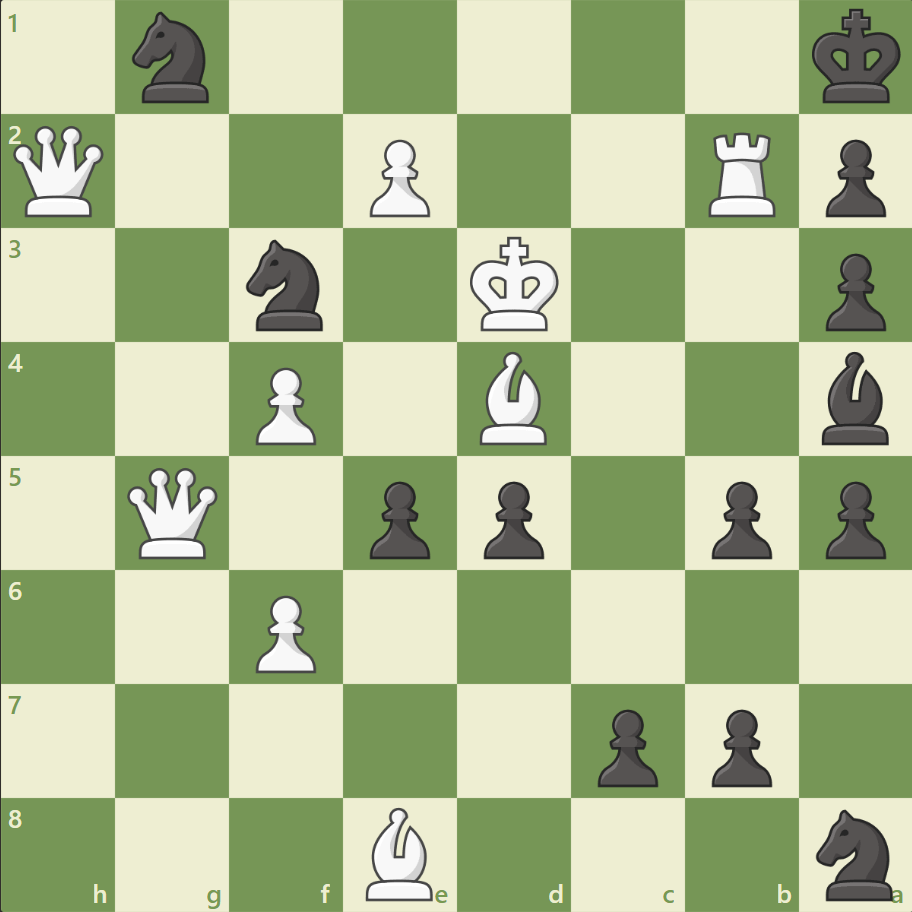B: (358, 801, 442, 904), (471, 347, 555, 449)
K: (465, 231, 565, 339)
P: (247, 586, 322, 677), (247, 359, 322, 450), (361, 132, 435, 223)
Q: (10, 122, 109, 222), (124, 463, 223, 562)
R: (700, 125, 783, 222)
b: (812, 347, 896, 449)
k: (806, 4, 906, 112)
n: (124, 7, 222, 110), (238, 234, 335, 337), (806, 802, 903, 904)
p: (701, 700, 776, 791), (701, 473, 776, 564), (474, 473, 549, 564), (588, 700, 662, 791), (815, 473, 889, 564), (361, 473, 435, 564), (815, 246, 889, 337), (815, 132, 889, 223)
